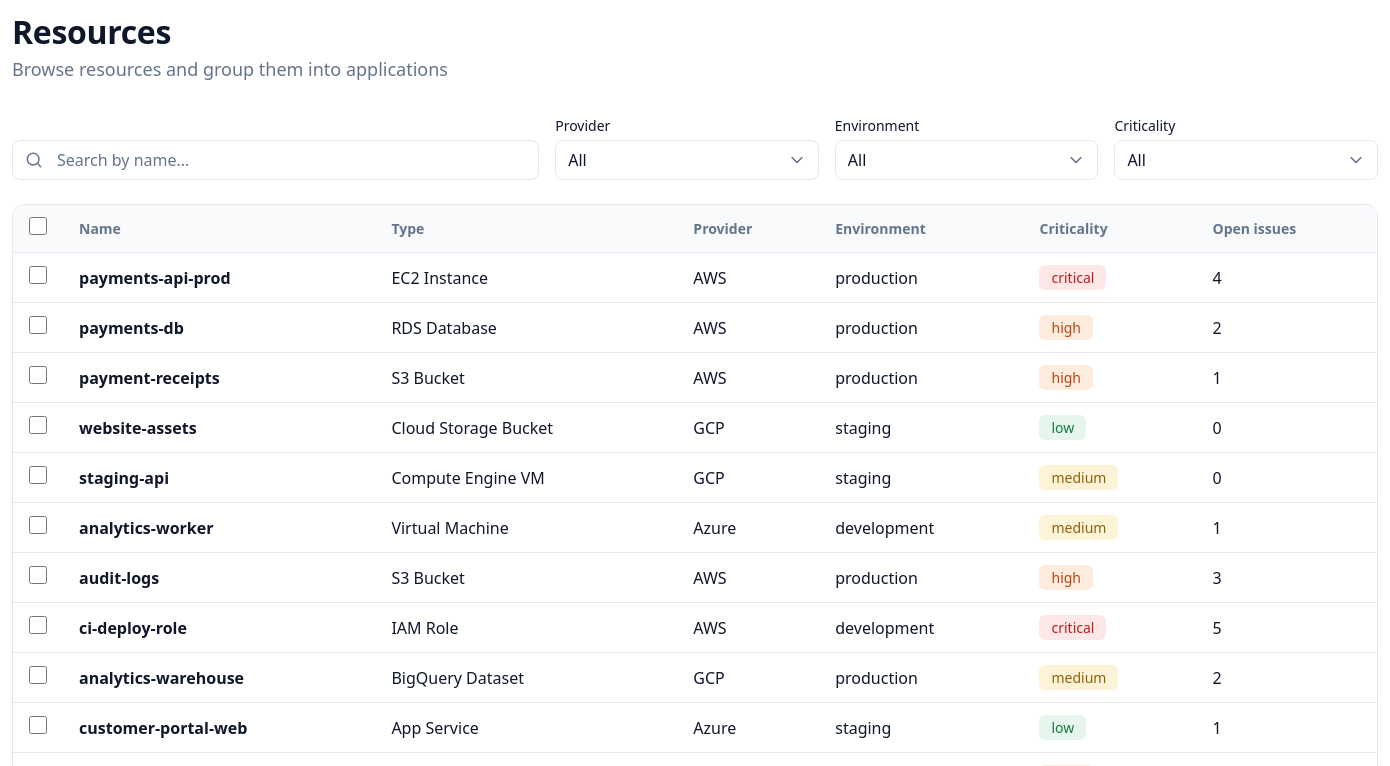
Scenario: ResourcesPage › combines name search with provider, environment and criticality filters
Select "AWS" in the dropdown labelled "Provider": (687, 160) [555, 140, 819, 180]
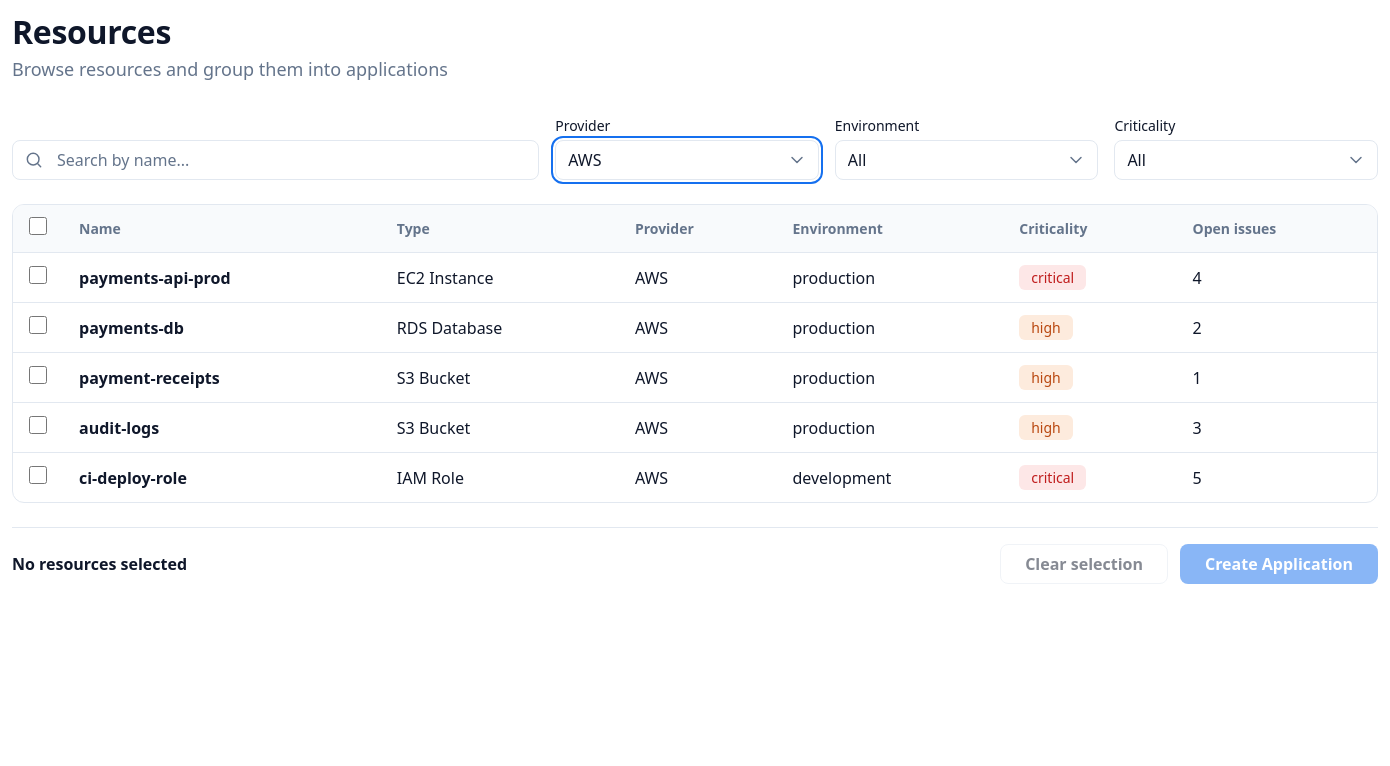
Select "production" in the dropdown labelled "Environment": (967, 160) [835, 140, 1098, 180]
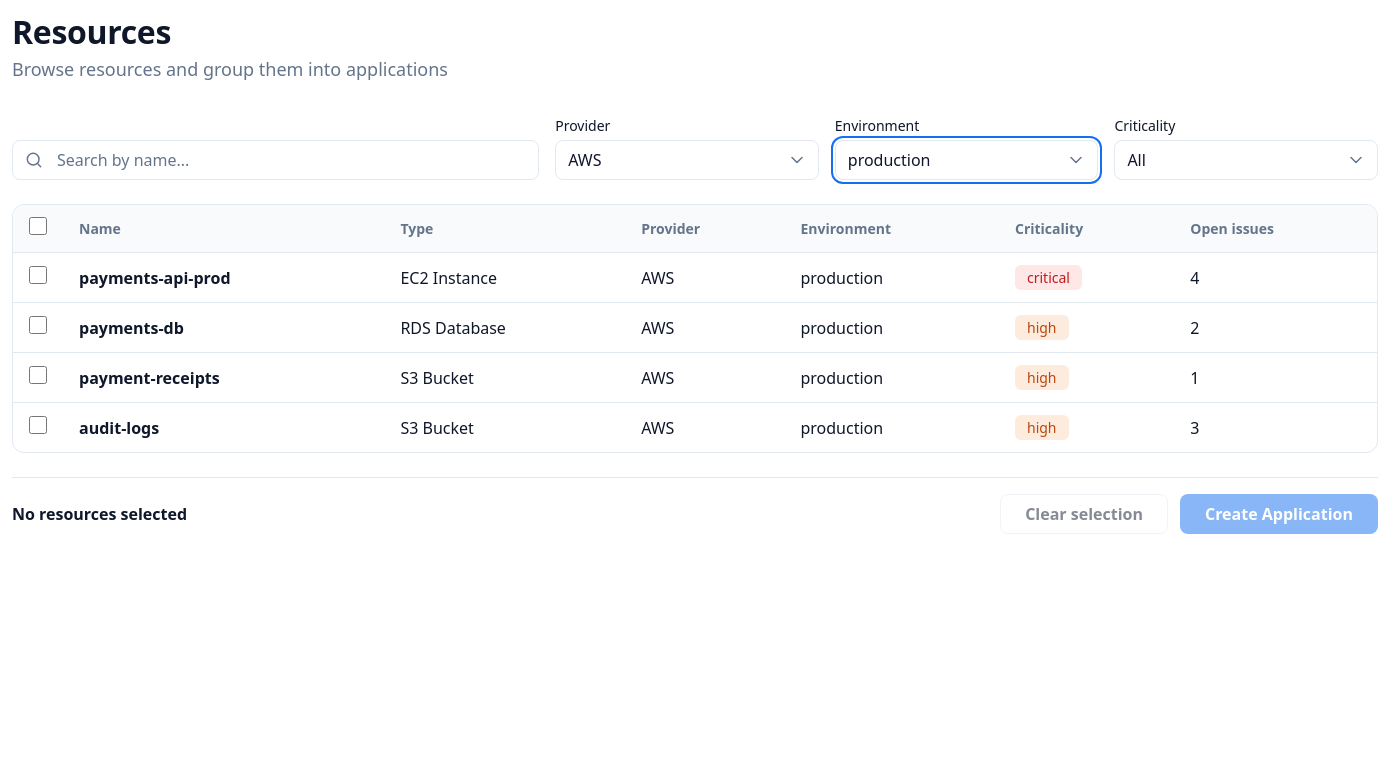
Select "high" in the dropdown labelled "Criticality": (1246, 160) [1114, 140, 1378, 180]
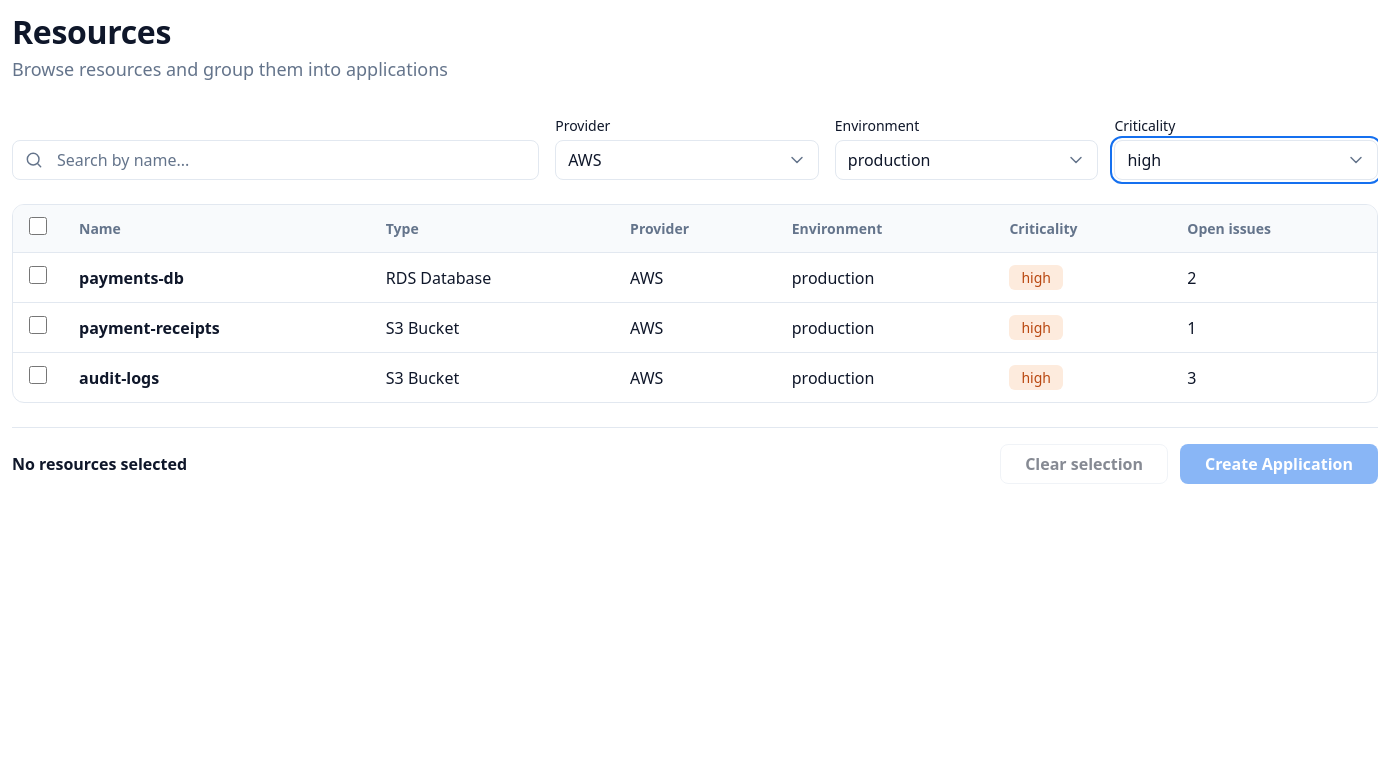
// Uppercase input checks that search is case-insensitive.
In the search field named "Search resources by name": (276, 160) [12, 140, 539, 180], type "PAY"
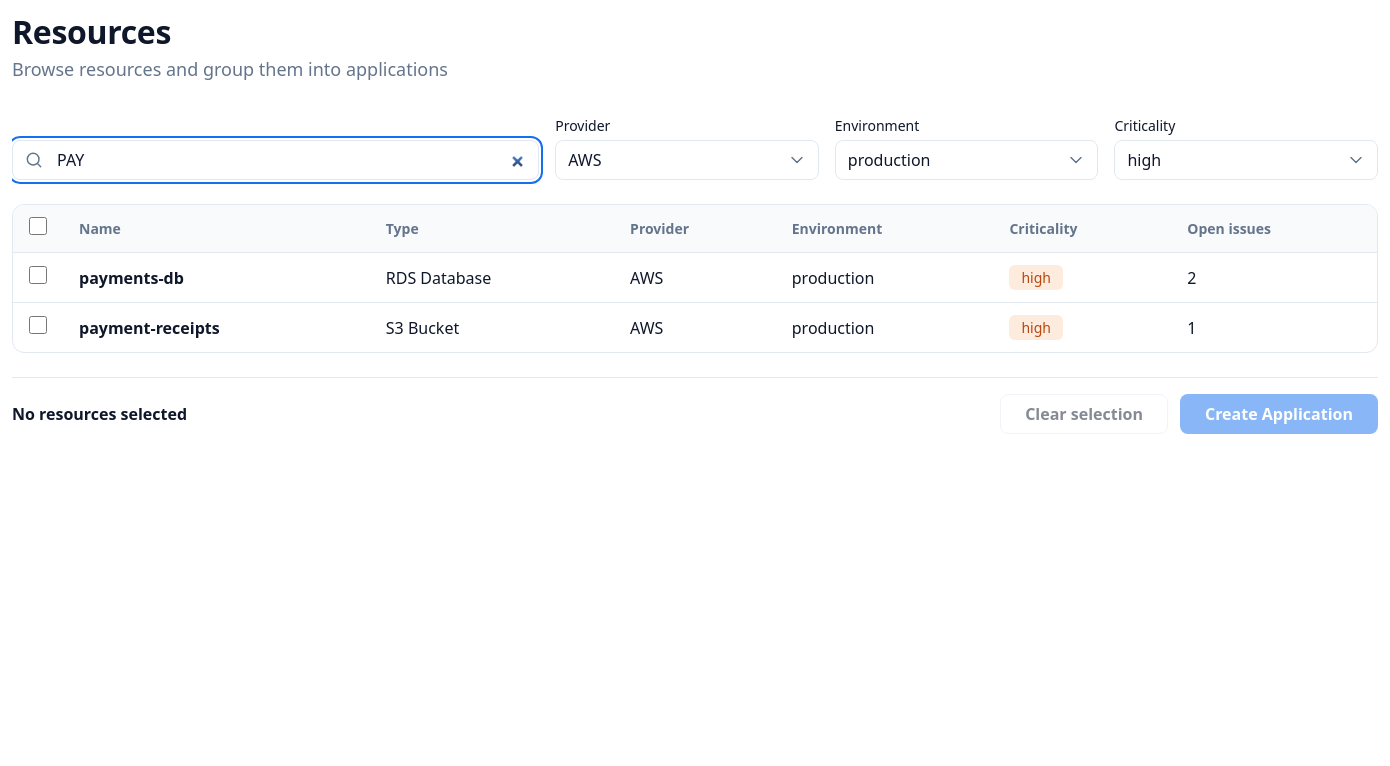
In the search field named "Search resources by name": (276, 160) [12, 140, 539, 180], type "xyz"
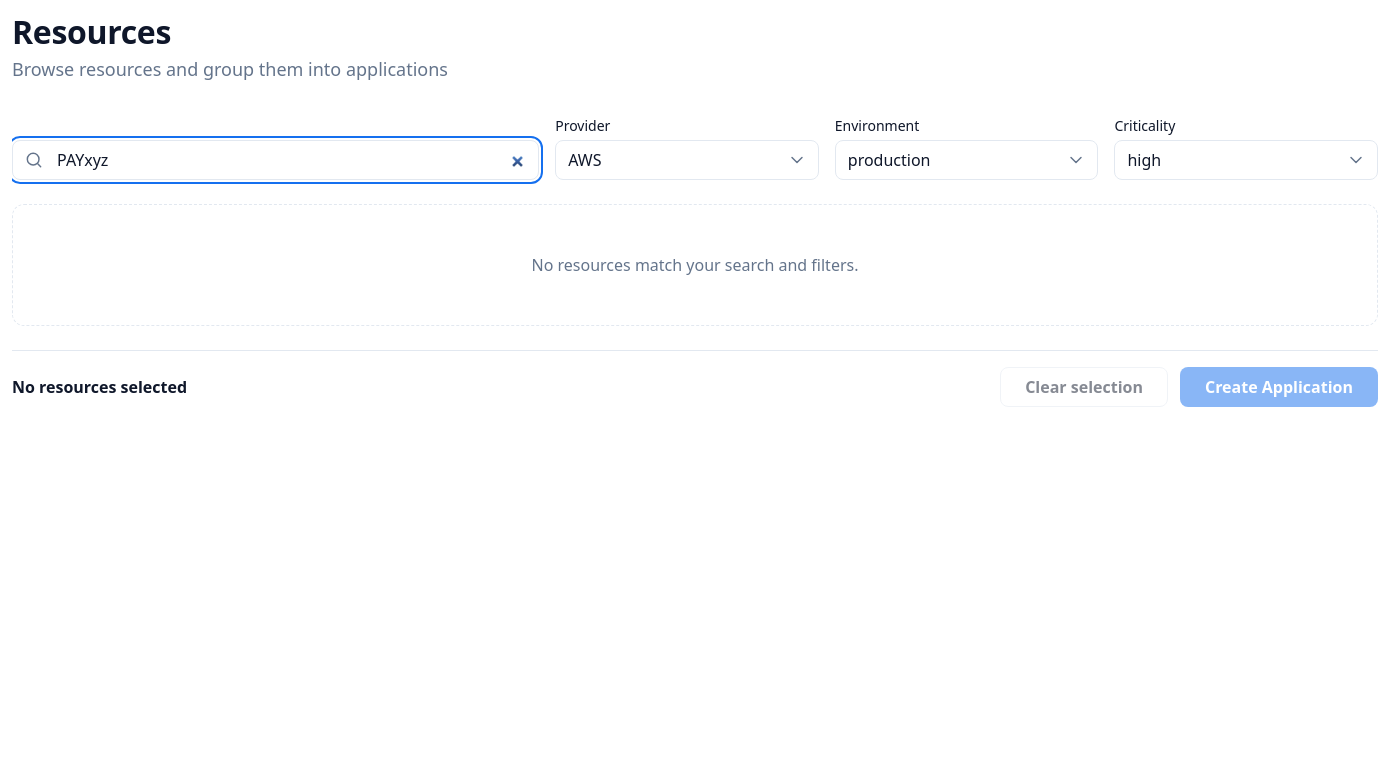
Expected: the text "No resources match your search and filters." is shown, [12, 204, 1378, 326]
